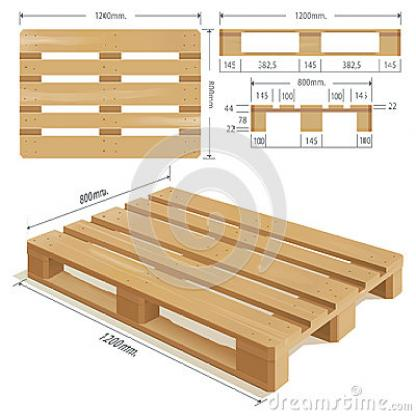BoxFace: (18, 182, 409, 399)
